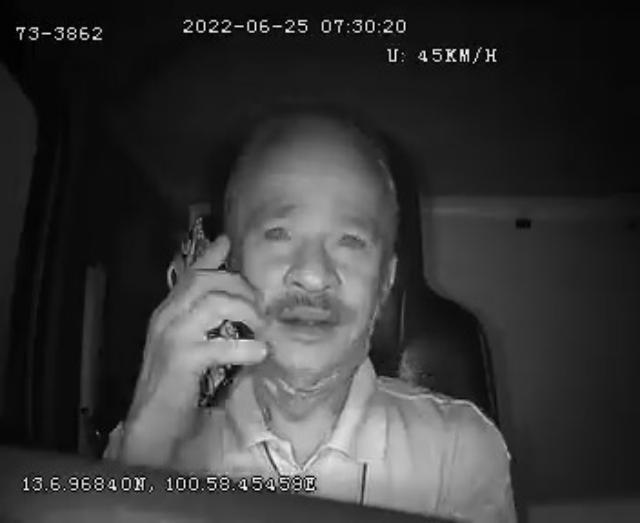PhoneUse: (165, 208, 249, 404)
SafeDriving: (326, 216, 379, 262), (253, 210, 302, 250)
